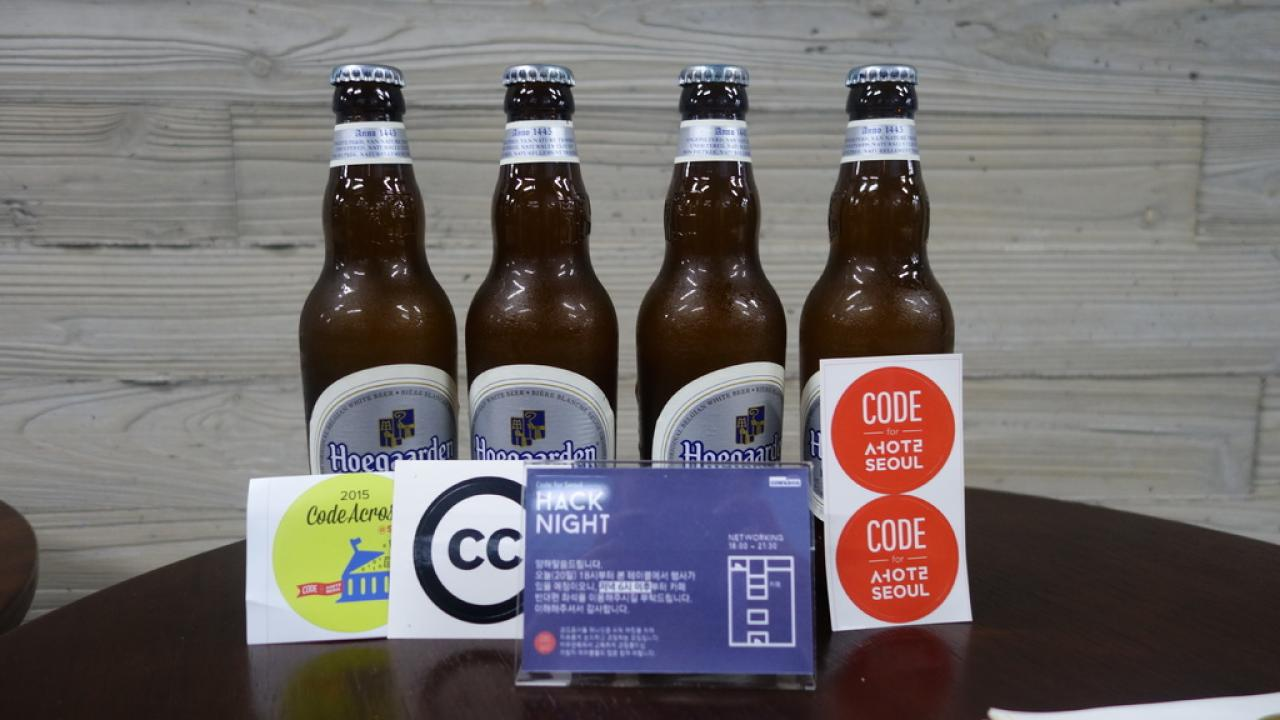bottle_cap: (505, 62, 575, 87), (332, 61, 406, 84), (846, 63, 920, 84), (680, 62, 750, 84)
